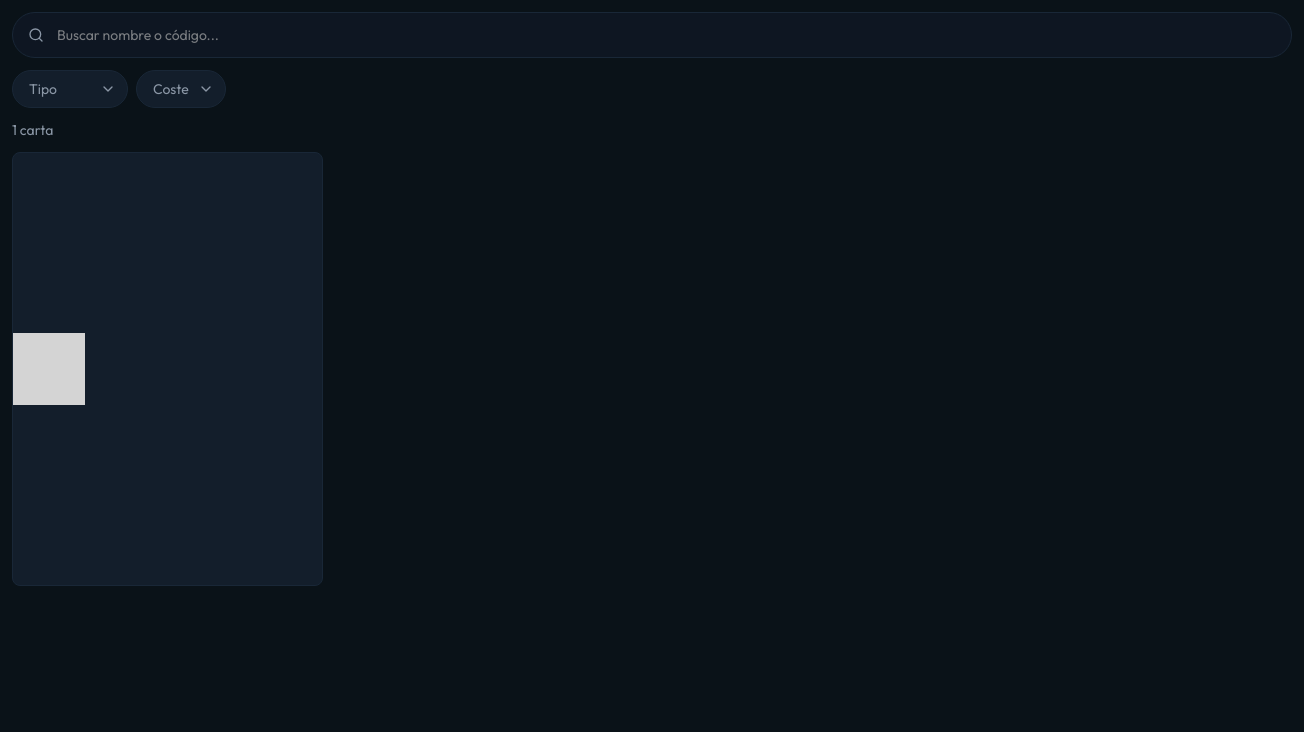
CardCatalog › avisa si ningún resultado coincide con los filtros
The image size is (1304, 732).
Select "Evento" in the dropdown named "Tipo": x=70, y=89 x1=12 y1=70 x2=128 y2=108
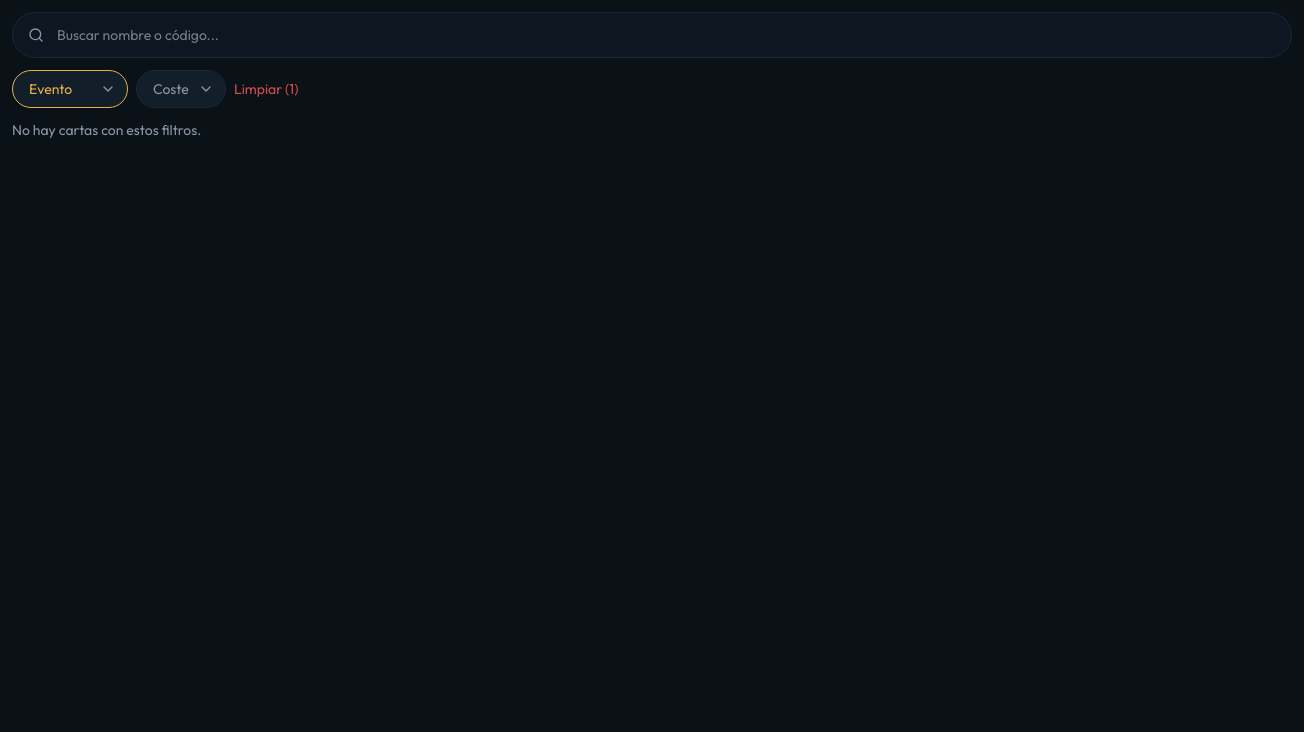
Check: the text "No hay cartas con estos filtros." is shown, box x1=12 y1=121 x2=201 y2=139
